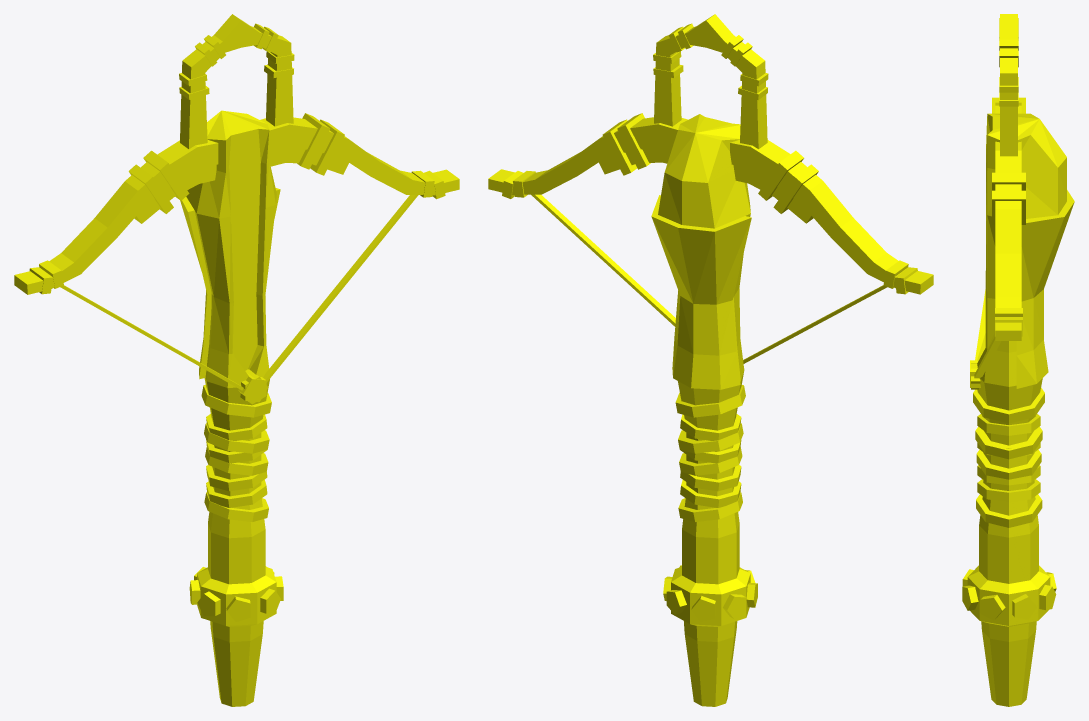
The model's file is _crossbow_2.glb.
The picture shows the model from 3 angles, left to right: view 1: azimuth 30°, elevation 25°; view 2: azimuth 150°, elevation 25°; view 3: azimuth 270°, elevation 25°; orthographic projection.
Parts seen in each view (by area): view 1: crossbow_2; view 2: crossbow_2; view 3: crossbow_2.
Part boxes in pixels (x1,y1,x2,y2): crossbow_2: (14,14,459,706); crossbow_2: (488,14,933,706); crossbow_2: (962,14,1074,706).
Bounding box in the file's own units: 0.6406 × 0.9663 × 0.1439.
1 material, 1 textured.
